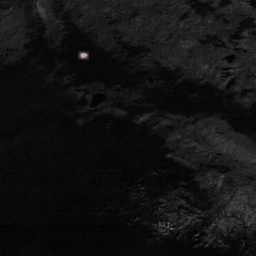Target: (77, 51, 89, 60)
